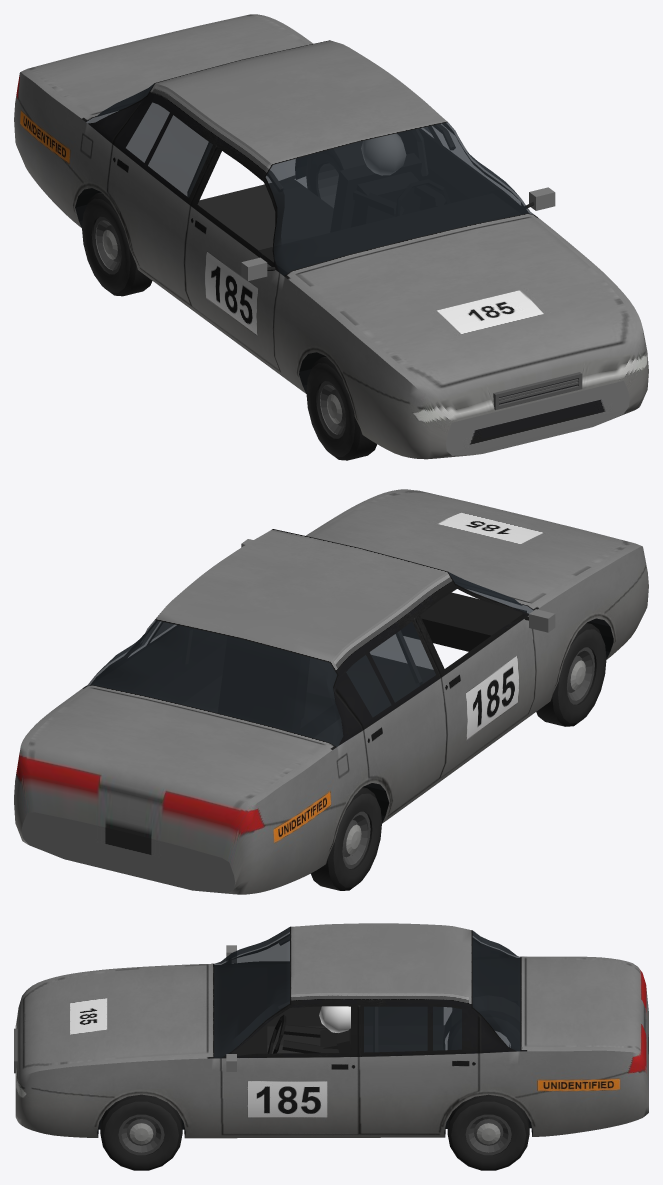
The picture shows the model from 3 angles, top to bottom: view 1: azimuth 30°, elevation 25°; view 2: azimuth 150°, elevation 25°; view 3: azimuth 270°, elevation 25°; orthographic projection. The views are drawn at different scales.
Parts seen in each view (by area): view 1: body, wheel_fr, wheel_rr, wheel_rl; view 2: body, wheel_rr, wheel_fr; view 3: body, wheel_fl, wheel_rl, wheel_rr.
Part boxes in pixels (<box>): body: <box>14,14,648,459</box>; wheel_fr: <box>306,356,376,460</box>; wheel_rr: <box>82,192,152,296</box>; wheel_rl: <box>306,149,343,207</box>; body: <box>14,489,648,894</box>; wheel_rr: <box>311,787,381,890</box>; wheel_fr: <box>536,623,606,726</box>; body: <box>14,923,648,1138</box>; wheel_fl: <box>100,1094,182,1170</box>; wheel_rl: <box>447,1094,529,1170</box>; wheel_rr: <box>448,1010,519,1050</box>.
Bounding box in the file's own units: 2.07 × 1.41 × 4.79.
3 materials, 2 textured.
